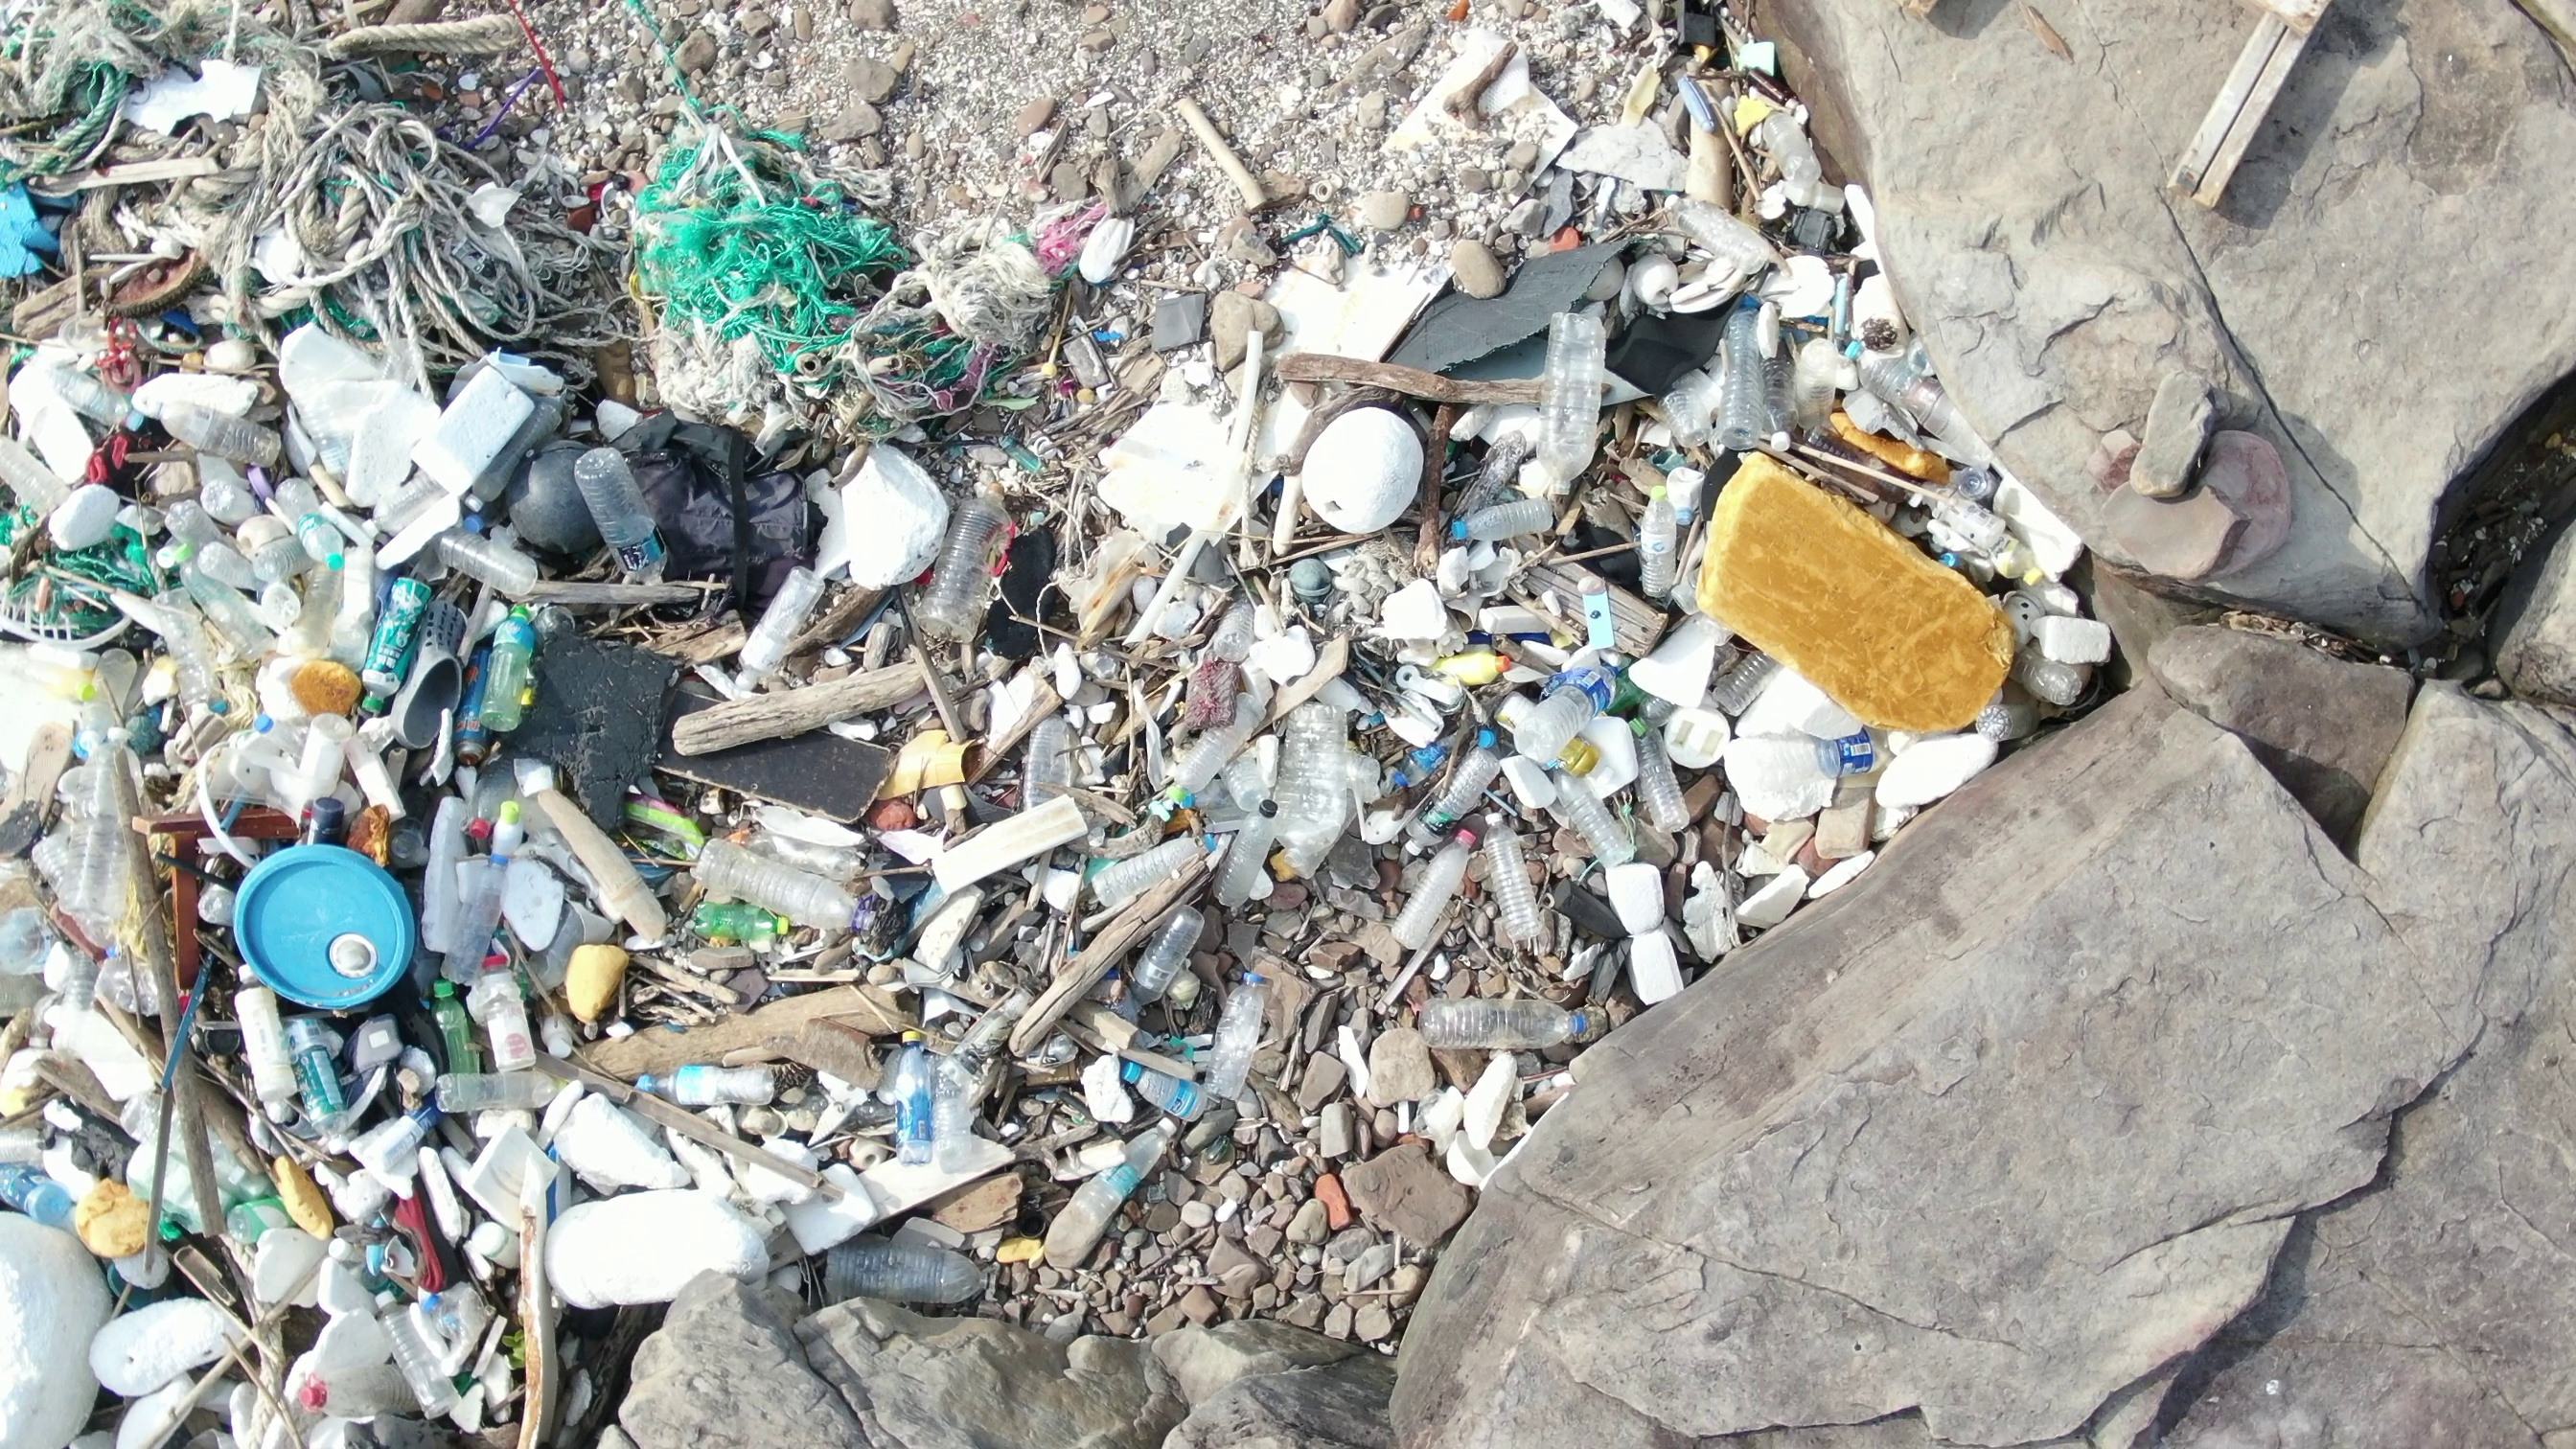bottle: (694, 835, 881, 939), (1845, 331, 1985, 455), (722, 556, 835, 706), (571, 435, 679, 589), (810, 1231, 1008, 1313), (922, 490, 1023, 648), (67, 718, 143, 920), (1401, 734, 1511, 867), (1534, 311, 1608, 506), (1039, 1159, 1148, 1276), (368, 1276, 458, 1415), (143, 396, 295, 476), (1085, 824, 1223, 911), (1417, 991, 1598, 1053), (232, 964, 301, 1125), (168, 540, 260, 658), (1523, 648, 1629, 750), (1212, 955, 1281, 1108), (1134, 902, 1223, 1021), (1718, 290, 1776, 469), (290, 1019, 361, 1164), (1391, 826, 1468, 957), (1111, 1042, 1223, 1129), (1546, 755, 1635, 862), (274, 474, 361, 582), (1477, 824, 1552, 950), (359, 571, 428, 706), (1769, 722, 1914, 786), (637, 1065, 800, 1122), (428, 525, 552, 598), (430, 1063, 593, 1118), (487, 950, 552, 1085), (1215, 791, 1286, 915), (485, 593, 545, 732), (42, 354, 145, 432), (430, 973, 488, 1102), (1629, 708, 1688, 833), (899, 1023, 945, 1173), (1445, 495, 1569, 550), (294, 708, 349, 832), (2, 1166, 88, 1244), (295, 701, 349, 823), (1753, 104, 1824, 193), (2, 432, 78, 513), (1716, 639, 1790, 722), (2006, 639, 2086, 711), (1444, 740, 1506, 832), (465, 798, 529, 872), (690, 892, 784, 941), (223, 1196, 295, 1256), (1971, 695, 2045, 750), (1946, 462, 2013, 518)
garbage: (9, 9, 1085, 1449), (1093, 67, 2105, 777), (980, 766, 1985, 1247)
